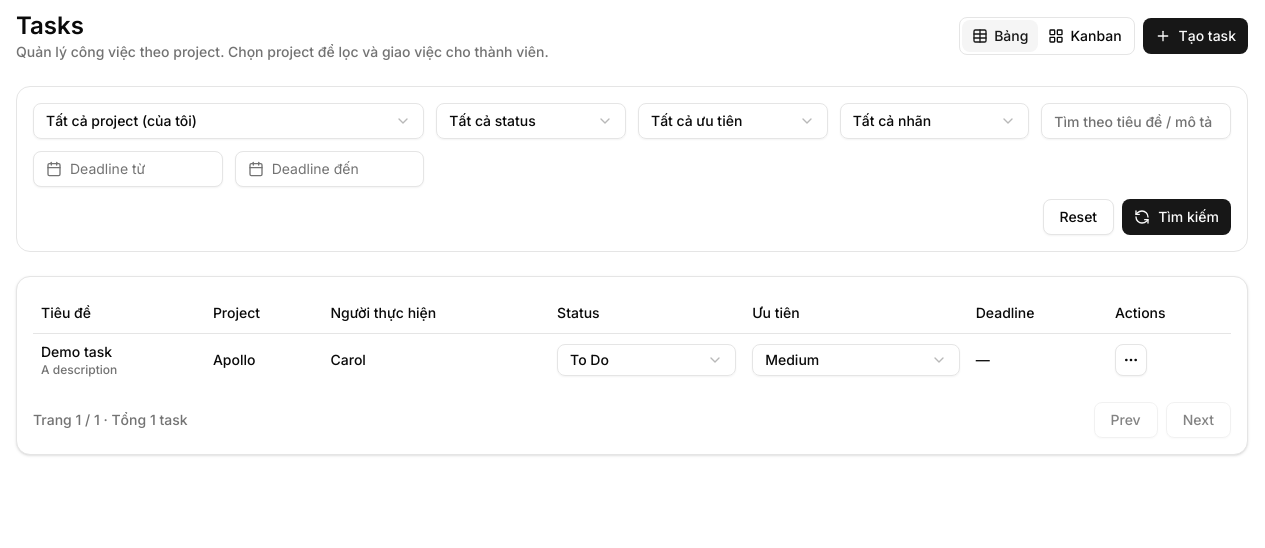
Scenario: <Tasks /> › switches to the Kanban board view and lays tasks out in status columns
Check: the text "Demo task" is shown, box [41,342,112,360]
Click the button "Kanban".
click(1085, 36)  # box [1038,20,1132,52]
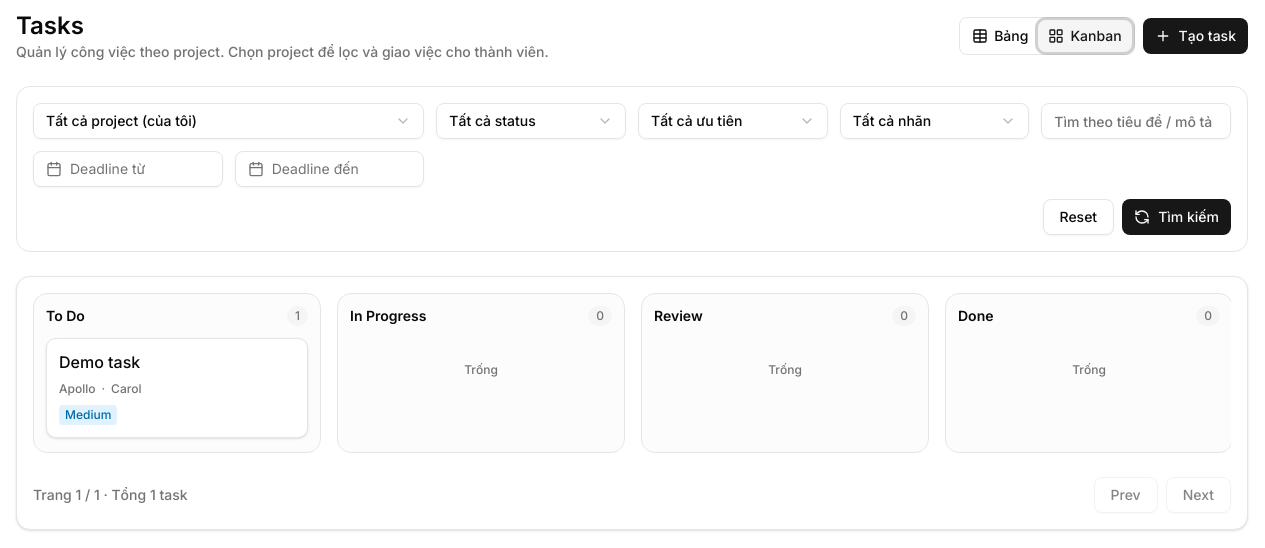
Check: the button with test id "task-card-5" is shown, box [46,338,308,438]
